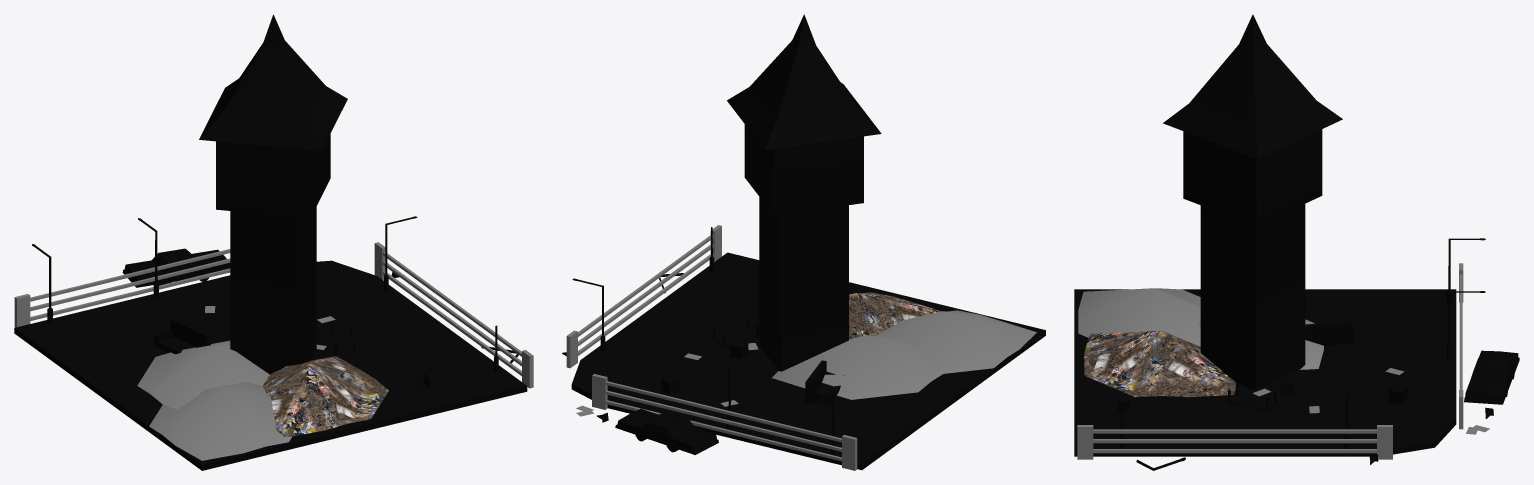
The model's file is Clock Tower.obj.
3 views of the same model, side by side, from view 1: azimuth 30°, elevation 25°; view 2: azimuth 150°, elevation 25°; view 3: azimuth 270°, elevation 25° (orthographic). The views are drawn at different scales.
Visible parts, largest first — view 1: Pavement3 polySurface58, Clock_Tower, Debri1, Debri3, Debri2, Laser_Fence:modelPanel3ViewSelectedSet Laser_Fence:pCube59 Laser, Laser_Fence1:modelPanel3ViewSelectedSet Laser_Fence1:pCube59 Las, Car2, Sofa2; view 2: Pavement3 polySurface58, Clock_Tower, Debri2, Debri1, Laser_Fence:modelPanel3ViewSelectedSet Laser_Fence:pCube59 Laser, Laser_Fence1:modelPanel3ViewSelectedSet Laser_Fence1:pCube59 Las, Car2, Debri3, Sofa2, Table2; view 3: Clock_Tower, Pavement3 polySurface58, Debri3, Debri1, Laser_Fence1:modelPanel3ViewSelectedSet Laser_Fence1:pCube59 Las, Car2, Sofa2, Laser_Fence:modelPanel3ViewSelectedSet Laser_Fence:pCube59 Laser, Table2, Debri2.
Boxes of the visible parts, box(x1,y1,x2,y2) form: Pavement3 polySurface58: box(14, 260, 527, 470); Clock_Tower: box(199, 14, 347, 374); Debri1: box(149, 382, 292, 460); Debri3: box(263, 356, 388, 436); Debri2: box(137, 340, 269, 409); Laser_Fence:modelPanel3ViewSelectedSet Laser_Fence:pCube59 Laser: box(14, 249, 230, 327); Laser_Fence1:modelPanel3ViewSelectedSet Laser_Fence1:pCube59 Las: box(374, 242, 533, 388); Car2: box(122, 248, 230, 287); Sofa2: box(154, 318, 210, 354); Pavement3 polySurface58: box(571, 252, 1045, 470); Clock_Tower: box(727, 14, 881, 371); Debri2: box(772, 335, 948, 399); Debri1: box(876, 310, 1036, 373); Laser_Fence:modelPanel3ViewSelectedSet Laser_Fence:pCube59 Laser: box(592, 374, 857, 470); Laser_Fence1:modelPanel3ViewSelectedSet Laser_Fence1:pCube59 Las: box(566, 225, 721, 368); Car2: box(615, 409, 718, 454); Debri3: box(849, 292, 940, 339); Sofa2: box(805, 360, 844, 405); Table2: box(713, 317, 759, 346); Clock_Tower: box(1163, 14, 1342, 390); Pavement3 polySurface58: box(1074, 289, 1456, 456); Debri3: box(1084, 330, 1235, 397); Debri1: box(1078, 288, 1200, 346); Laser_Fence1:modelPanel3ViewSelectedSet Laser_Fence1:pCube59 Las: box(1077, 425, 1392, 459); Car2: box(1464, 350, 1519, 404); Sofa2: box(1305, 320, 1353, 345); Laser_Fence:modelPanel3ViewSelectedSet Laser_Fence:pCube59 Laser: box(1459, 263, 1463, 429); Table2: box(1228, 382, 1276, 410); Debri2: box(1199, 306, 1323, 369).
Bounding box in the file's own units: 10.55 × 10.03 × 11.19.
